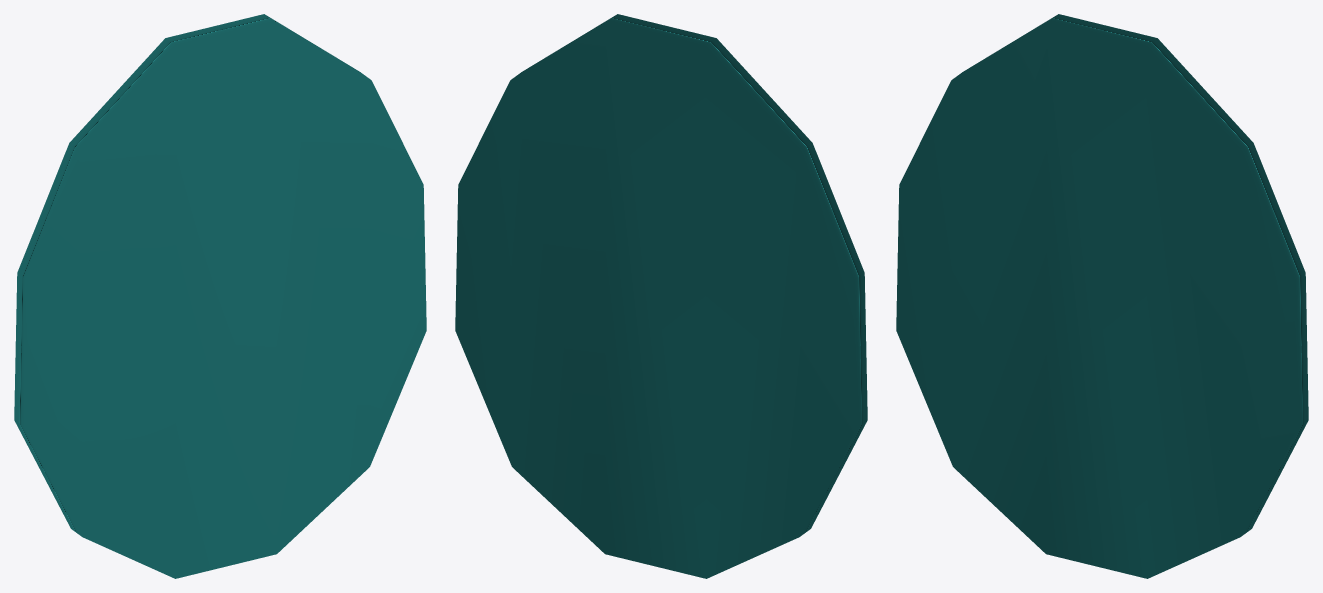
Rendered from badminton_racket_collider.fbx.
The picture shows the model from 3 angles, left to right: view 1: azimuth 30°, elevation 25°; view 2: azimuth 150°, elevation 25°; view 3: azimuth 330°, elevation 25°; orthographic projection.
Parts seen in each view (by area): view 1: badminton_racket_collider; view 2: badminton_racket_collider; view 3: badminton_racket_collider.
Part boxes in pixels (bbox=[...]): badminton_racket_collider: bbox=[14, 14, 426, 578]; badminton_racket_collider: bbox=[455, 14, 867, 578]; badminton_racket_collider: bbox=[896, 14, 1308, 578].
Bounding box in the file's own units: 18.17 × 23.03 × 0.8931.
